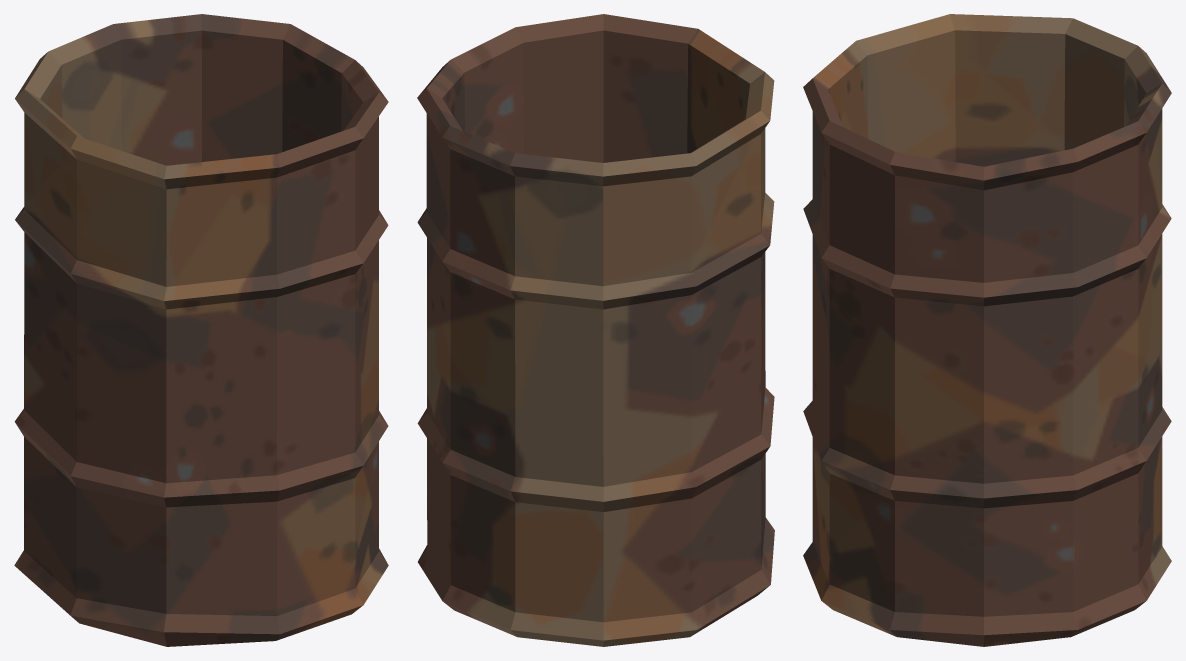
Rendered from SM_Prop_Rusted_Drum_01.glb.
The picture shows the model from 3 angles, left to right: view 1: azimuth 30°, elevation 25°; view 2: azimuth 150°, elevation 25°; view 3: azimuth 270°, elevation 25°; orthographic projection.
Parts seen in each view (by area): view 1: SM_Prop_Rusted_Drum_01; view 2: SM_Prop_Rusted_Drum_01; view 3: SM_Prop_Rusted_Drum_01.
Part boxes in pixels (x1=…): SM_Prop_Rusted_Drum_01: x1=14, y1=14, x2=388, y2=646; SM_Prop_Rusted_Drum_01: x1=417, y1=14, x2=774, y2=646; SM_Prop_Rusted_Drum_01: x1=803, y1=14, x2=1171, y2=646.
Size of the model in its own units: 0.6986 by 1.05 by 0.713.
Materials: 1 (1 with a texture image).
